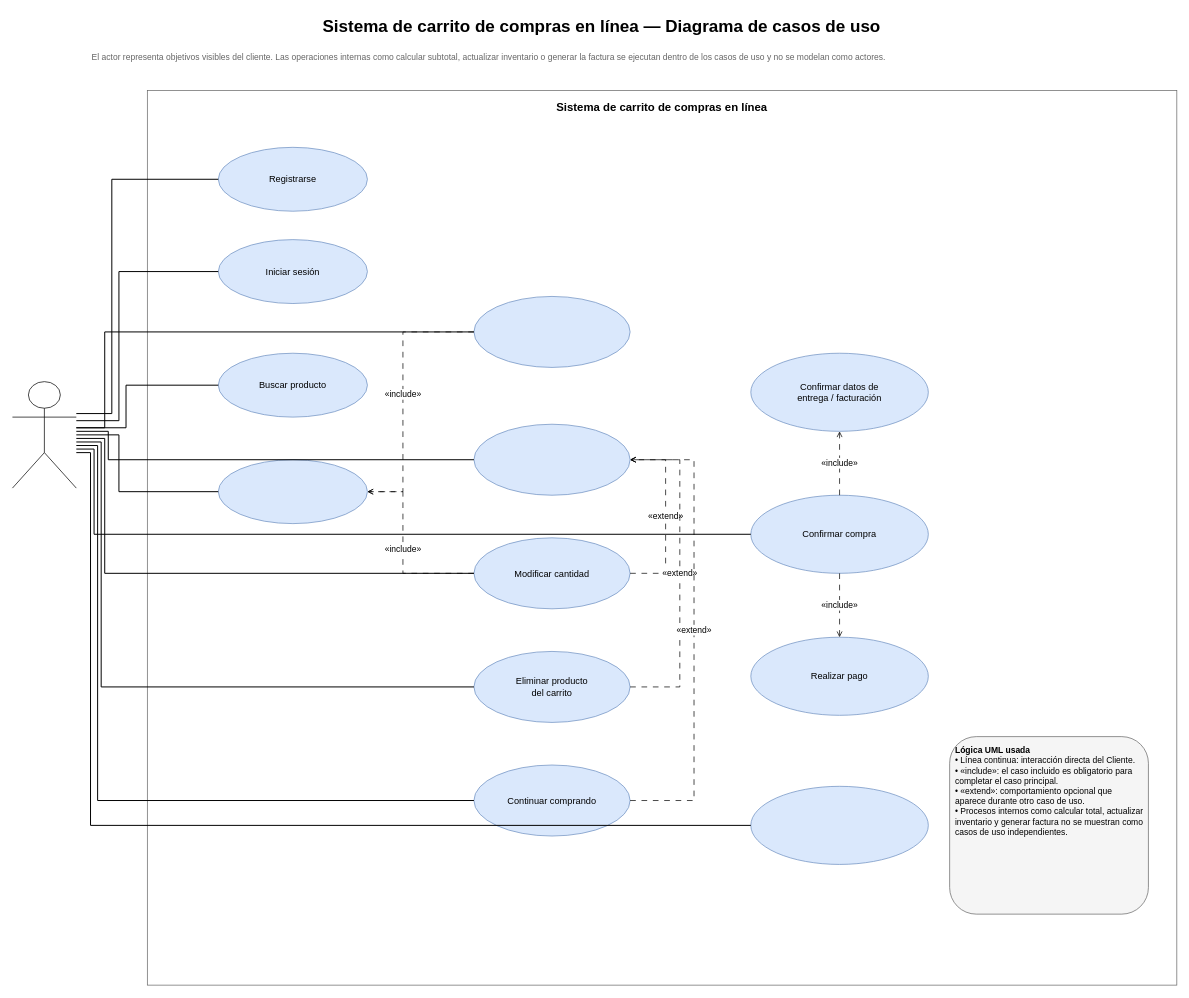
The diagram is 1189 pixels wide and 998 high, and some of its shapes have lost their labels. Here are the shapes that lost their labels. From the top down, the centre of each, then its label:
pixel 551 331: Agregar producto al carrito
pixel 44 434: Cliente
pixel 551 459: Visualizar carrito
pixel 292 491: Consultar disponibilidad
pixel 839 825: Consultar confirmación de compra / factura
